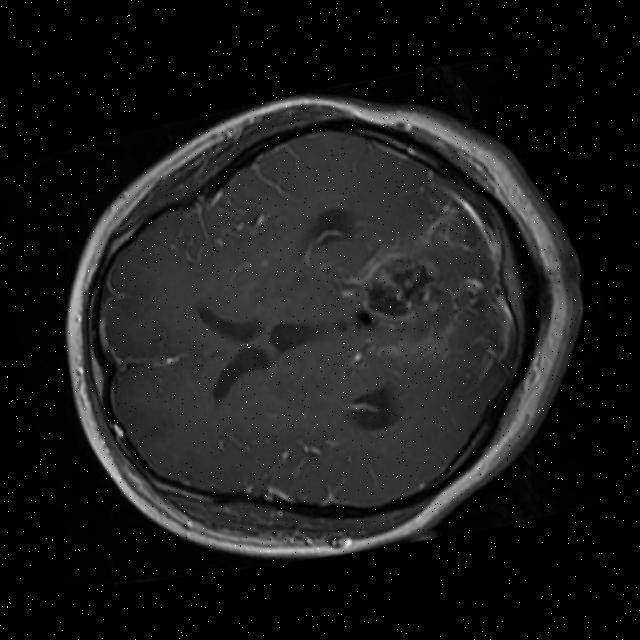Glioma: (337, 244, 448, 334)
